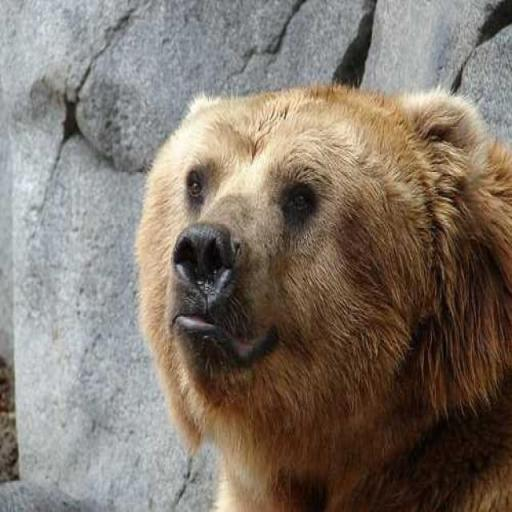Bear: (133, 80, 511, 511)
